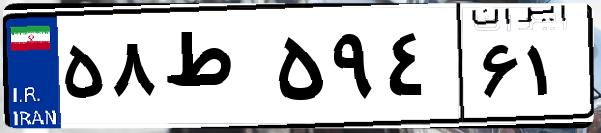1: (525, 38, 570, 115)
4: (385, 28, 445, 110)
5: (270, 28, 330, 110), (57, 26, 110, 100)
6: (475, 38, 525, 113)
8: (110, 28, 158, 98)
9: (330, 28, 385, 110)
ط: (158, 20, 270, 120)
